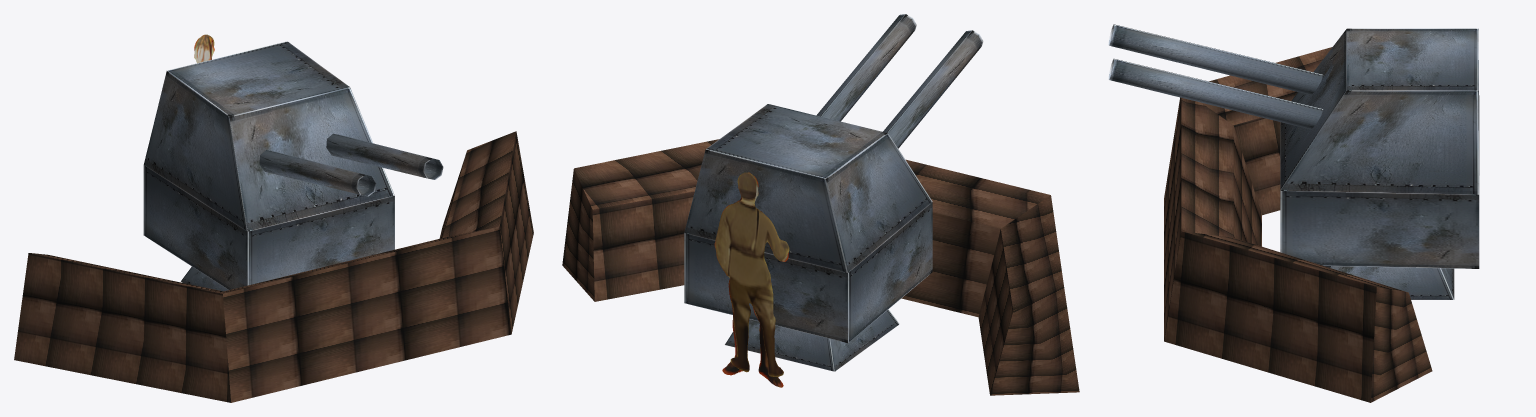
File: aagun.gltf
3 views of the same model, side by side, from view 1: azimuth 30°, elevation 25°; view 2: azimuth 150°, elevation 25°; view 3: azimuth 270°, elevation 25° (orthographic). The views are drawn at different scales.
Parts seen in each view (by area): view 1: aagun_atomic1, aagun_atomic0; view 2: aagun_atomic1, aagun_atomic0; view 3: aagun_atomic0, aagun_atomic1.
Part boxes in pixels (left/top/right/bottom): aagun_atomic1: left=14, top=34, right=533, bottom=402; aagun_atomic0: left=143, top=41, right=443, bottom=289; aagun_atomic1: left=562, top=139, right=1079, bottom=395; aagun_atomic0: left=684, top=14, right=983, bottom=342; aagun_atomic0: left=1108, top=24, right=1479, bottom=268; aagun_atomic1: left=1164, top=47, right=1454, bottom=402.
Bounding box in the file's own units: 38.53 × 16.02 × 25.22.
Materials: 4 (4 with a texture image).
